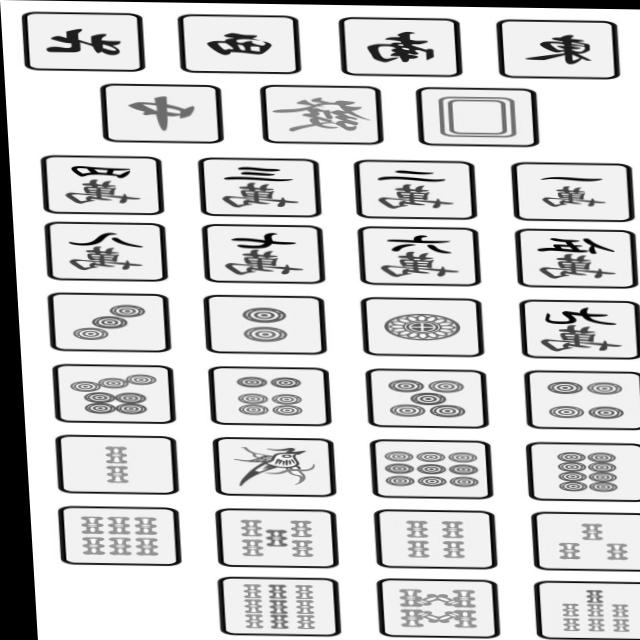bai: (426, 89, 527, 143)
east: (497, 22, 616, 78)
fa: (264, 87, 378, 141)
m1: (515, 163, 631, 221)
m2: (360, 162, 473, 218)
m3: (204, 160, 319, 219)
m4: (47, 158, 158, 215)
m5: (523, 230, 634, 284)
m6: (362, 228, 476, 285)
m7: (202, 225, 318, 283)
m8: (49, 224, 161, 279)
m9: (527, 303, 632, 356)
north: (26, 13, 143, 70), (102, 86, 221, 141)
s1: (216, 440, 335, 496)
s2: (61, 436, 173, 493)
s3: (533, 513, 640, 571)
s4: (377, 509, 495, 569)
s5: (216, 509, 338, 567)
s6: (62, 512, 169, 564)
s7: (541, 584, 640, 638)
s8: (378, 581, 496, 636)
s9: (220, 580, 327, 636)
south: (346, 18, 455, 76)
t1: (368, 300, 477, 356)
t2: (203, 296, 322, 354)
t3: (55, 295, 166, 351)
t4: (528, 374, 637, 427)
t5: (372, 372, 479, 426)
t6: (214, 370, 323, 424)
t7: (58, 367, 165, 417)
t8: (531, 443, 640, 500)
t9: (378, 442, 488, 498)
west: (178, 16, 295, 72)
